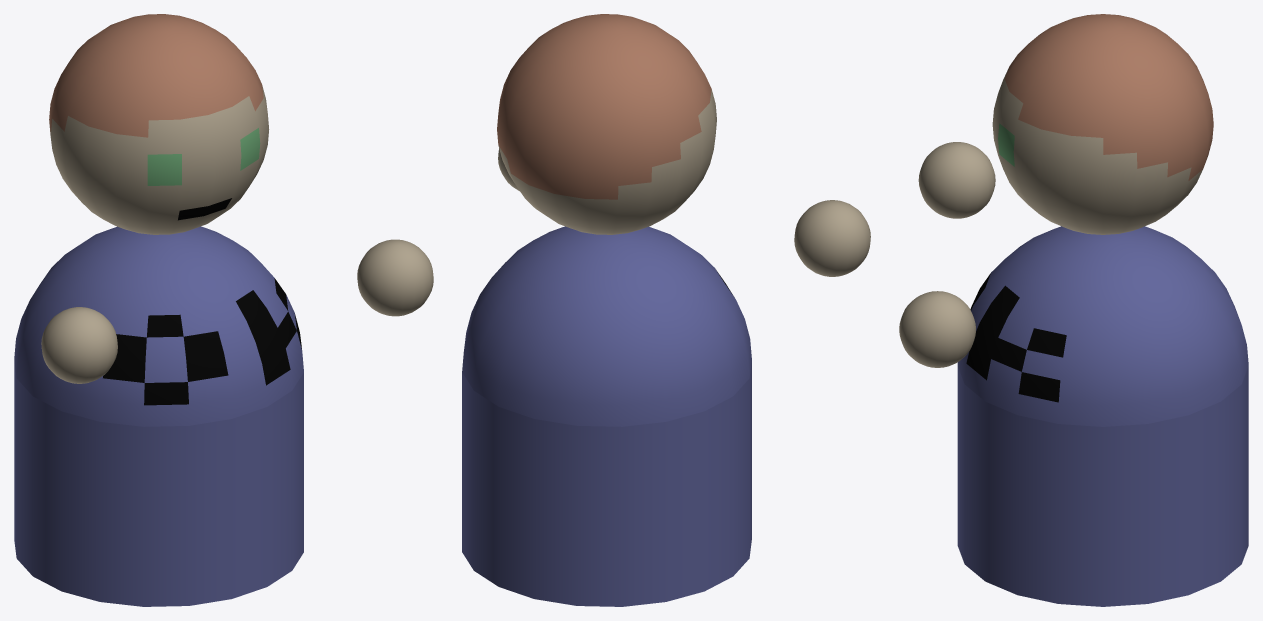
Rendered from Customer.fbx.
3 renders of one model, left to right at view 1: azimuth 30°, elevation 25°; view 2: azimuth 150°, elevation 25°; view 3: azimuth 270°, elevation 25°, orthographic.
Parts seen in each view (by area): view 1: pSphere5; view 2: pSphere5; view 3: pSphere5.
Boxes of the visible parts, x1=… form: pSphere5: x1=14, y1=14, x2=433, y2=606; pSphere5: x1=462, y1=14, x2=870, y2=606; pSphere5: x1=899, y1=14, x2=1248, y2=606.
Size of the model in its own units: 2.95 by 3.95 by 2.4.
